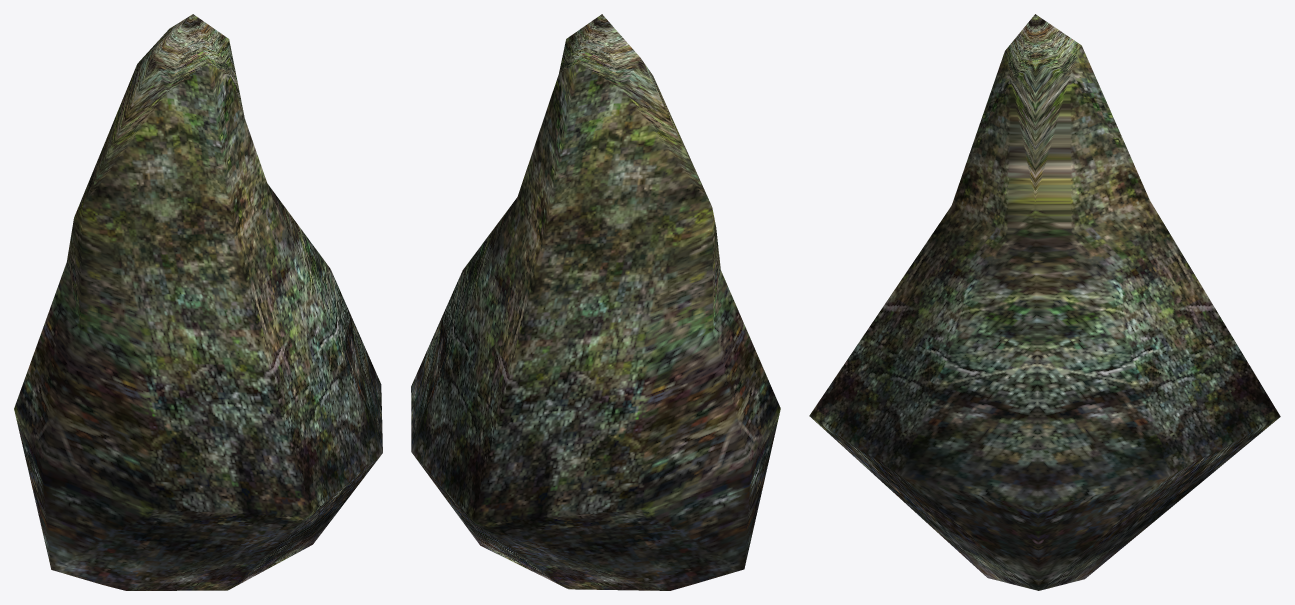
The model's file is thm_all_cave_stalagmite_damprock_c2_l1.fbx.
The picture shows the model from 3 angles, left to right: view 1: azimuth 30°, elevation 25°; view 2: azimuth 150°, elevation 25°; view 3: azimuth 270°, elevation 25°; orthographic projection. The views are drawn at different scales.
Parts seen in each view (by area): view 1: mesh_node; view 2: mesh_node; view 3: mesh_node.
Boxes of the visible parts, box(x1,y1,x2,y2) form: mesh_node: box(14, 14, 382, 590); mesh_node: box(411, 14, 780, 590); mesh_node: box(809, 14, 1280, 590).
Size of the model in its own units: 3.08 by 4.89 by 3.83.
